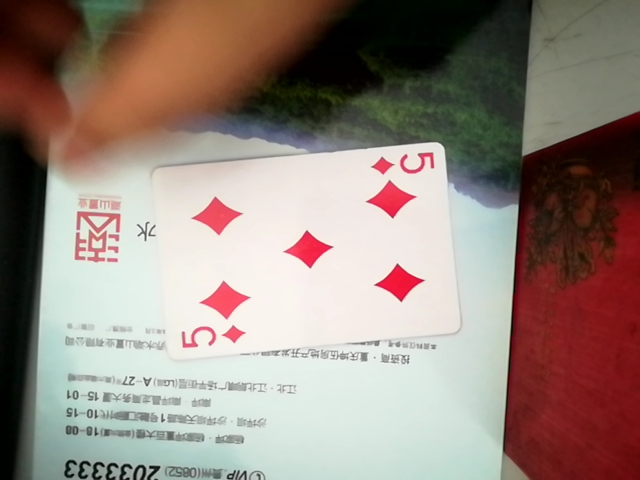fk 5: (137, 140, 456, 367)
